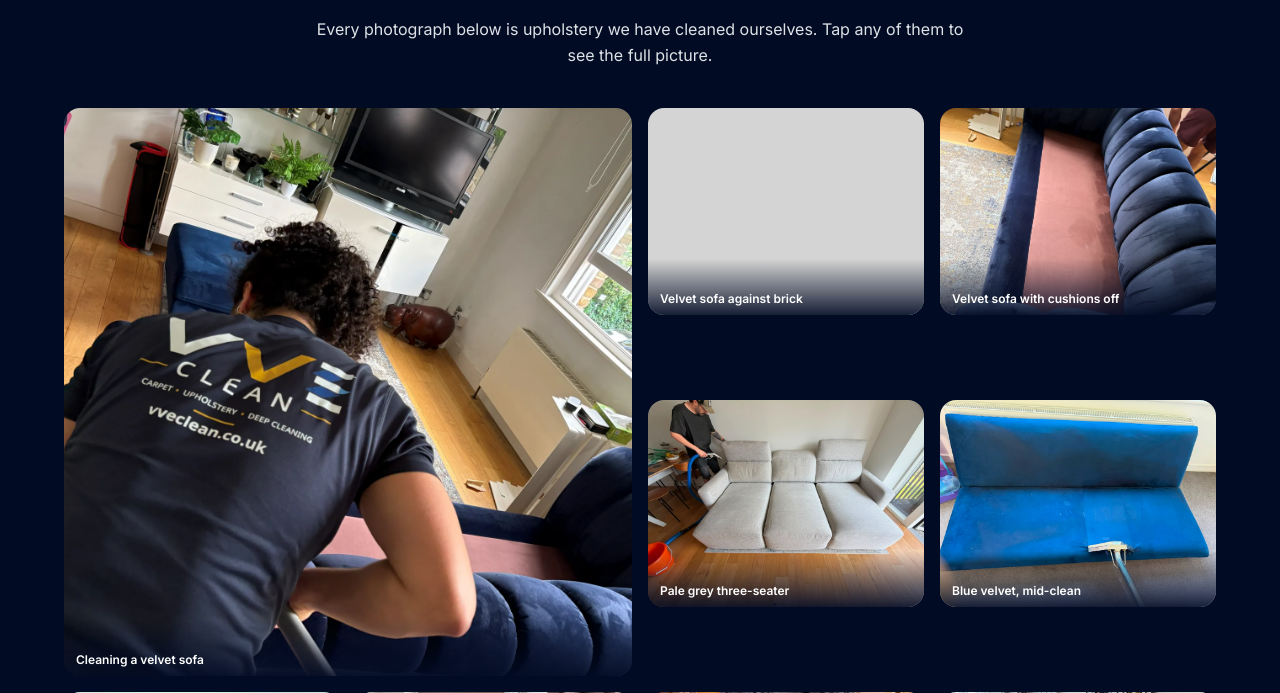
Scenario: the three supporting clips › does not expose clips as lightbox photos
(page scrolled)
Click the button with aria-label "View larger:". click: {"x": 348, "y": 392}
box: left=64, top=108, right=632, bottom=676
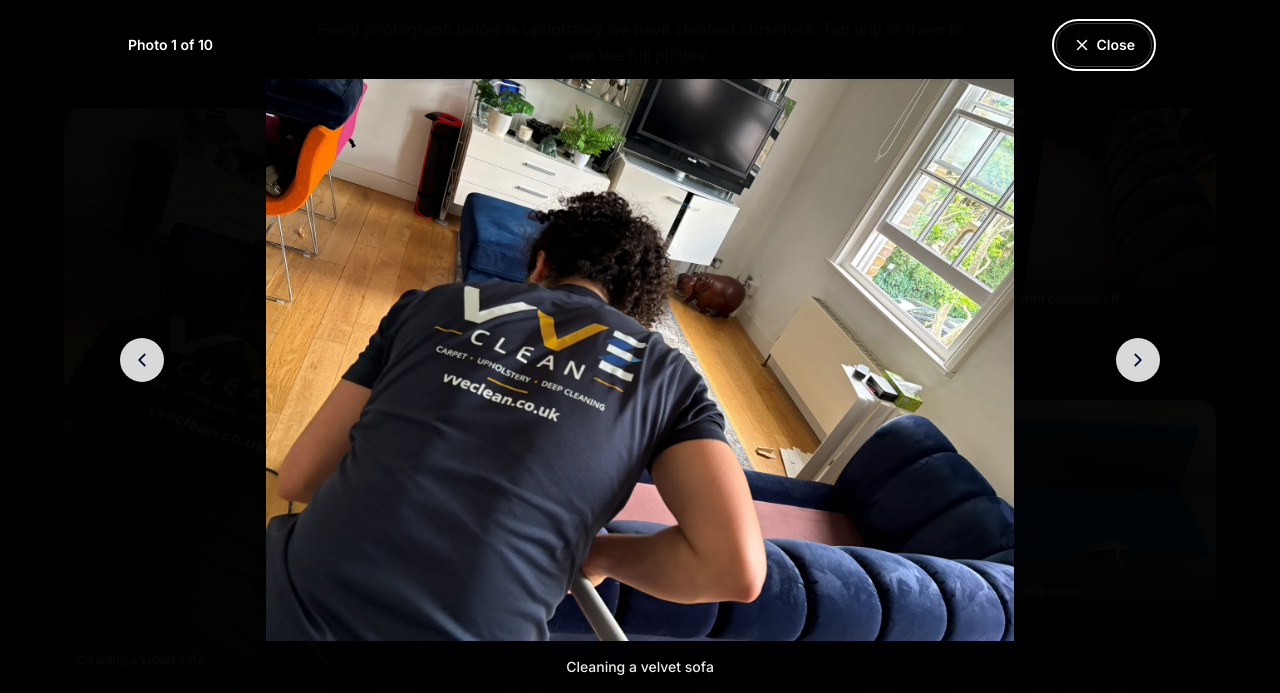
Result: the text "Photo 1 of 10" is shown at left=128, top=35, right=213, bottom=55
